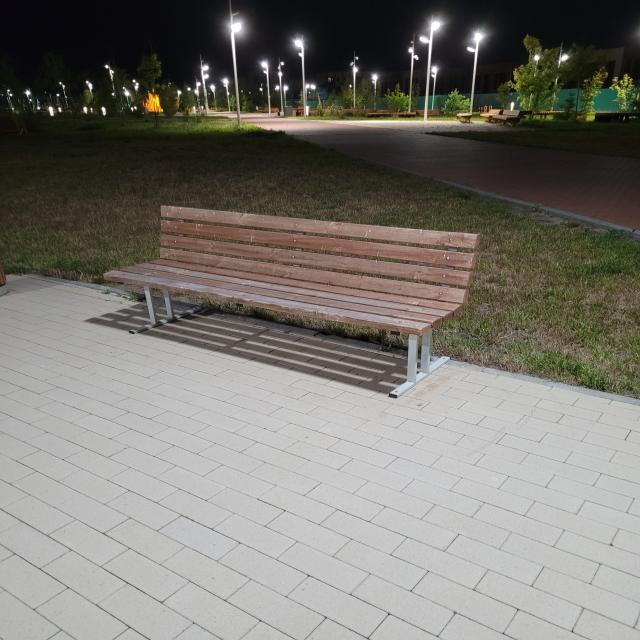Bench: (103, 206, 481, 398)
